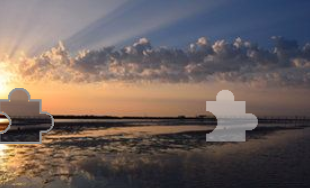target: (203, 86, 262, 150)
